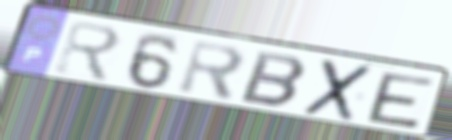6: (126, 33, 181, 91)
B: (237, 49, 310, 110)
E: (365, 70, 437, 131)
R: (175, 38, 249, 104), (52, 18, 124, 85)
X: (299, 57, 377, 124)
